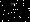person: (10, 5, 18, 14)
